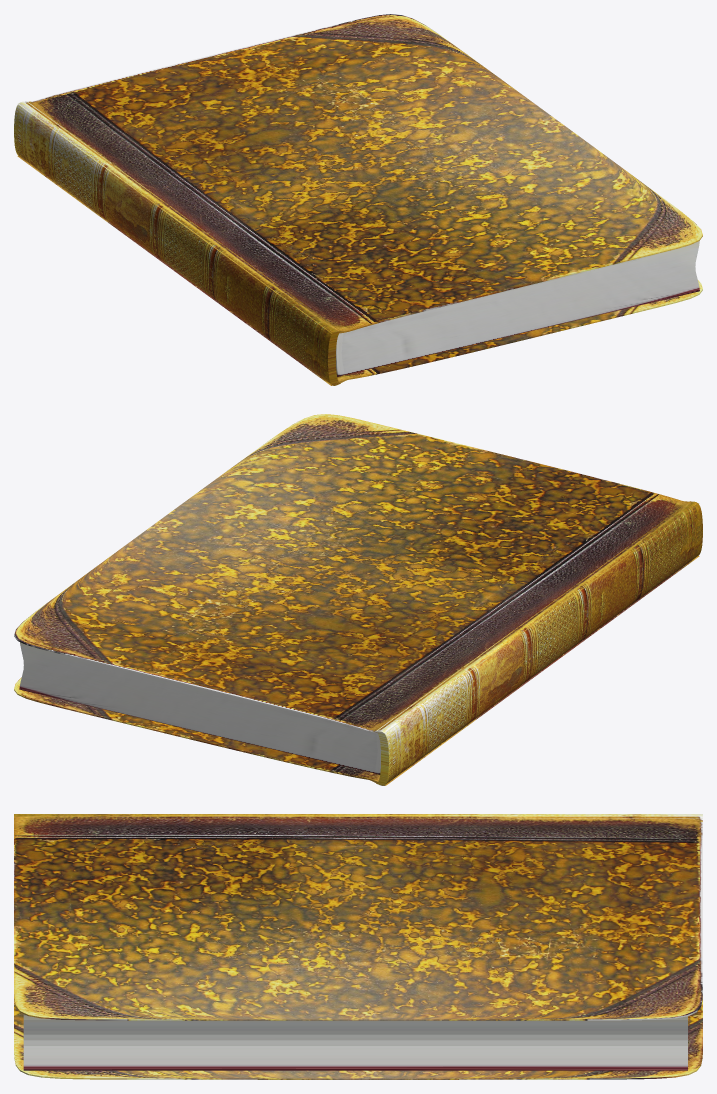
File: book.fbx
3 renders of one model, top to bottom at view 1: azimuth 30°, elevation 25°; view 2: azimuth 150°, elevation 25°; view 3: azimuth 270°, elevation 25°, orthographic. The views are drawn at different scales.
Visible parts, largest first — view 1: Cube, Cube.001; view 2: Cube, Cube.001; view 3: Cube, Cube.001.
Part boxes in pixels (x1=…): Cube: x1=14, y1=14, x2=702, y2=385; Cube.001: x1=336, y1=240, x2=699, y2=376; Cube: x1=14, y1=414, x2=702, y2=785; Cube.001: x1=19, y1=642, x2=380, y2=774; Cube: x1=14, y1=814, x2=702, y2=1079; Cube.001: x1=23, y1=1014, x2=687, y2=1070.
Size of the model in its own units: 213 by 28.63 by 297.
2 materials, 2 textured.
